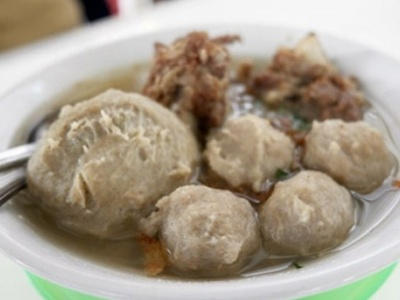bakso: (32, 83, 385, 268)
